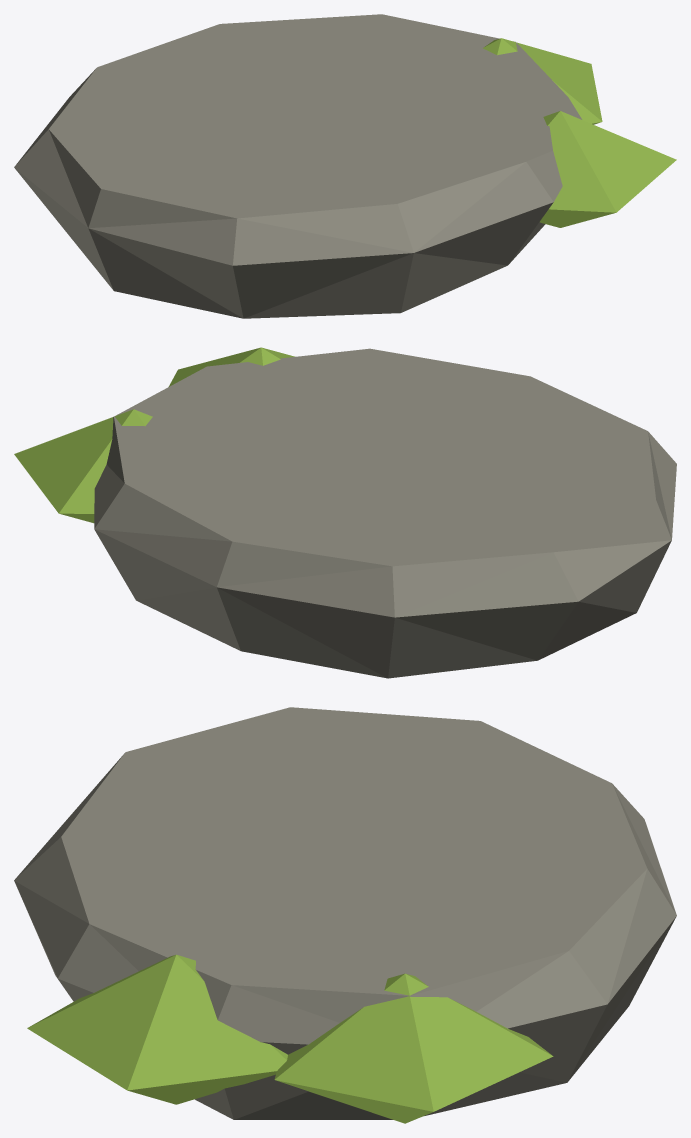
The model's file is LF_StreamStone.fbx.
3 renders of one model, top to bottom at view 1: azimuth 30°, elevation 25°; view 2: azimuth 150°, elevation 25°; view 3: azimuth 270°, elevation 25°, orthographic. The views are drawn at different scales.
Visible parts, largest first — view 1: LF_StreamStone_Stone, LF_StreamStone_Moss; view 2: LF_StreamStone_Stone, LF_StreamStone_Moss; view 3: LF_StreamStone_Stone, LF_StreamStone_Moss.
Boxes of the visible parts, left/top/right/bottom form: LF_StreamStone_Stone: left=14, top=14, right=582, bottom=318; LF_StreamStone_Moss: left=483, top=38, right=676, bottom=227; LF_StreamStone_Stone: left=94, top=348, right=676, bottom=678; LF_StreamStone_Moss: left=14, top=347, right=294, bottom=523; LF_StreamStone_Stone: left=14, top=707, right=676, bottom=1119; LF_StreamStone_Moss: left=27, top=954, right=553, bottom=1123.
Size of the model in its own units: 5 by 1 by 4.
